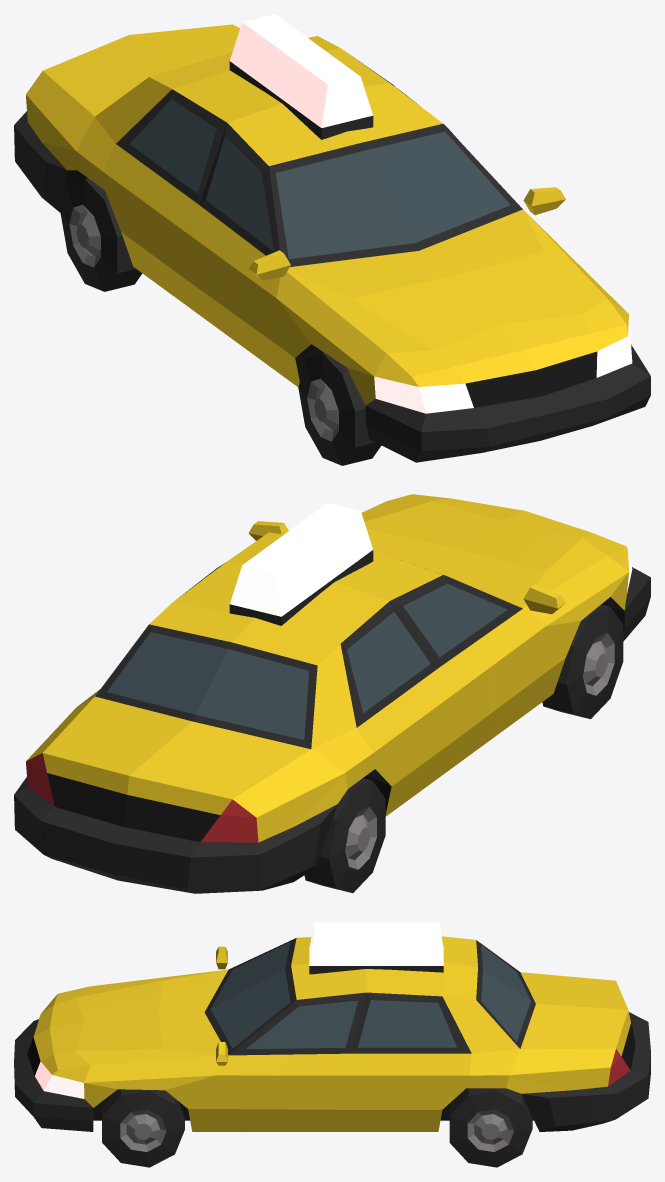
File: vehicles_car-taxi.fbx
3 renders of one model, top to bottom at view 1: azimuth 30°, elevation 25°; view 2: azimuth 150°, elevation 25°; view 3: azimuth 270°, elevation 25°, orthographic. The views are drawn at different scales.
Visible parts, largest first — view 1: car_taxi_base, car_taxi_wheel_FR, car_taxi_wheel_BR; view 2: car_taxi_base, car_taxi_wheel_BR, car_taxi_wheel_FR; view 3: car_taxi_base, car_taxi_wheel_BL, car_taxi_wheel_FL.
Part boxes in pixels (bbox=[...]): car_taxi_base: bbox=[14, 14, 650, 462]; car_taxi_wheel_FR: bbox=[298, 353, 381, 465]; car_taxi_wheel_BR: bbox=[60, 178, 142, 291]; car_taxi_base: bbox=[14, 494, 650, 893]; car_taxi_wheel_BR: bbox=[304, 778, 385, 892]; car_taxi_wheel_FR: bbox=[542, 604, 623, 719]; car_taxi_base: bbox=[14, 922, 650, 1131]; car_taxi_wheel_BL: bbox=[449, 1088, 532, 1167]; car_taxi_wheel_FL: bbox=[102, 1089, 184, 1167].
Bounding box in the file's own units: 81.99 × 66.37 × 200.
